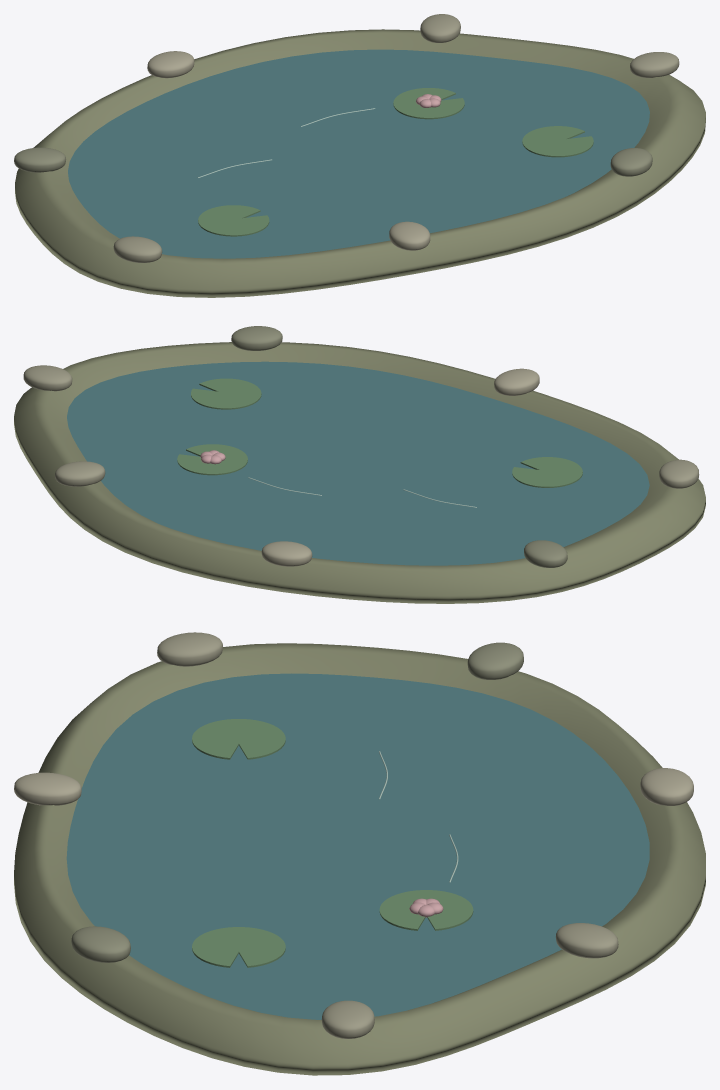
File: pond.glb
3 renders of one model, top to bottom at view 1: azimuth 30°, elevation 25°; view 2: azimuth 150°, elevation 25°; view 3: azimuth 270°, elevation 25°, orthographic. The views are drawn at different scales.
Visible parts, largest first — view 1: contained-water-volume, continuous-recessed-pond-basin, notched-lily-pad-1, notched-lily-pad-2, notched-lily-pad-0, bank-stone-4, bank-stone-3, bank-stone-0, bank-stone-5, bank-stone-2, bank-stone-1, bank-stone-6; view 2: contained-water-volume, continuous-recessed-pond-basin, notched-lily-pad-1, notched-lily-pad-2, notched-lily-pad-0, bank-stone-5, bank-stone-1, bank-stone-6, bank-stone-0, bank-stone-2, bank-stone-4, bank-stone-3; view 3: contained-water-volume, continuous-recessed-pond-basin, notched-lily-pad-1, notched-lily-pad-2, notched-lily-pad-0, bank-stone-2, bank-stone-3, bank-stone-6, bank-stone-1, bank-stone-4, bank-stone-0, bank-stone-5.
Boxes of the visible parts, left/top/right/bottom form: contained-water-volume: left=68, top=49, right=649, bottom=258; continuous-recessed-pond-basin: left=15, top=29, right=705, bottom=297; notched-lily-pad-1: left=522, top=126, right=593, bottom=157; notched-lily-pad-2: left=198, top=205, right=269, bottom=236; notched-lily-pad-0: left=393, top=88, right=464, bottom=119; bank-stone-4: left=14, top=147, right=65, bottom=172; bank-stone-3: left=113, top=236, right=162, bottom=262; bank-stone-0: left=630, top=52, right=679, bottom=77; bank-stone-5: left=147, top=51, right=194, bottom=78; bank-stone-2: left=389, top=221, right=430, bottom=250; bank-stone-1: left=610, top=148, right=652, bottom=176; bank-stone-6: left=420, top=14, right=460, bottom=42; contained-water-volume: left=67, top=361, right=649, bottom=565; continuous-recessed-pond-basin: left=14, top=342, right=705, bottom=603; notched-lily-pad-1: left=191, top=378, right=261, bottom=409; notched-lily-pad-2: left=512, top=457, right=582, bottom=487; notched-lily-pad-0: left=177, top=444, right=247, bottom=475; bank-stone-5: left=261, top=541, right=312, bottom=566; bank-stone-1: left=231, top=326, right=282, bottom=350; bank-stone-6: left=55, top=461, right=105, bottom=486; bank-stone-0: left=23, top=365, right=72, bottom=391; bank-stone-2: left=494, top=368, right=539, bottom=395; bank-stone-4: left=524, top=540, right=567, bottom=567; bank-stone-3: left=659, top=459, right=699, bottom=488; contained-water-volume: left=66, top=673, right=649, bottom=1019; continuous-recessed-pond-basin: left=14, top=643, right=705, bottom=1075; notched-lily-pad-1: left=192, top=927, right=285, bottom=967; notched-lily-pad-2: left=192, top=719, right=285, bottom=759; notched-lily-pad-0: left=379, top=890, right=473, bottom=930; bank-stone-2: left=14, top=772, right=81, bottom=805; bank-stone-3: left=157, top=632, right=222, bottom=666; bank-stone-6: left=555, top=923, right=618, bottom=958; bank-stone-1: left=71, top=926, right=130, bottom=962; bank-stone-4: left=467, top=642, right=523, bottom=679; bank-stone-0: left=321, top=1000, right=374, bottom=1038; bank-stone-5: left=640, top=768, right=693, bottom=805.
Bounding box in the file's own units: 3.11 × 0.1768 × 2.21.
